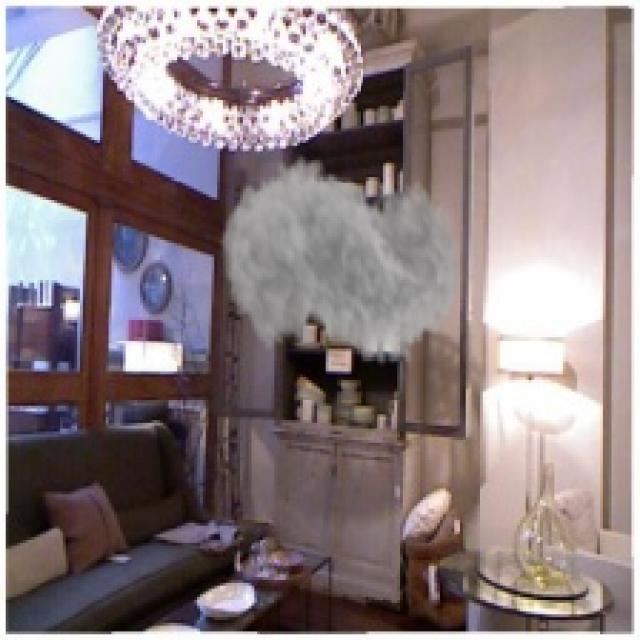smoke: (220, 137, 463, 392)
